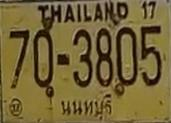0: (115, 26, 137, 86), (33, 29, 53, 87)
3: (72, 28, 92, 86)
5: (140, 26, 161, 86)
7: (9, 29, 29, 87)
8: (95, 28, 113, 86)
NBI: (60, 91, 116, 122)
